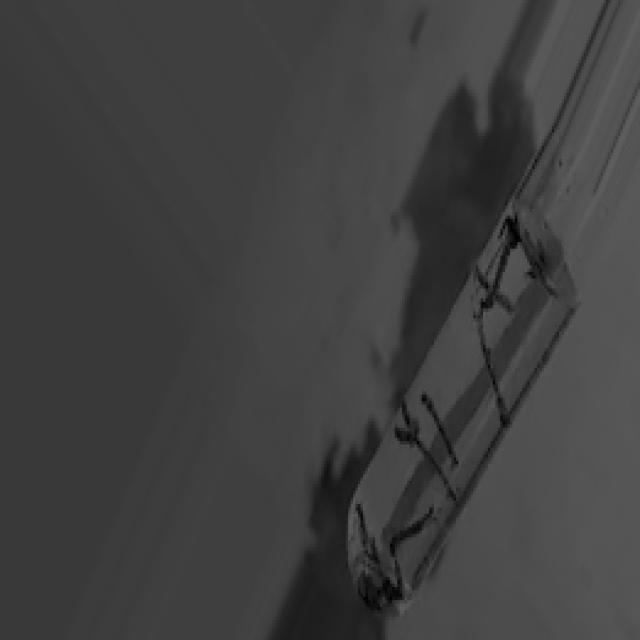larvas: (474, 315, 513, 427), (420, 389, 460, 466), (415, 439, 460, 504), (479, 237, 517, 313), (470, 263, 518, 320), (389, 506, 431, 556), (397, 403, 420, 447), (384, 567, 404, 598), (500, 215, 522, 240), (354, 501, 366, 540), (364, 540, 378, 560)
